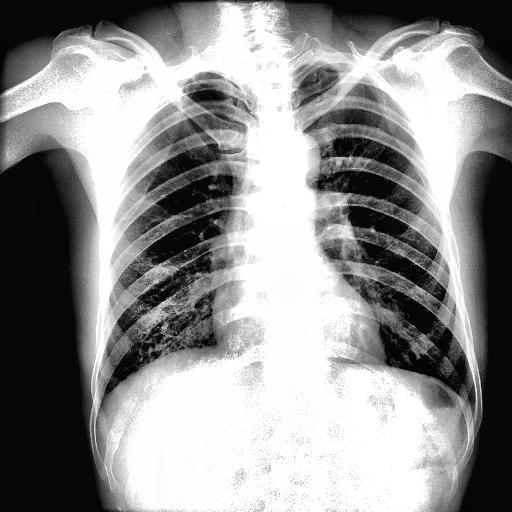11- Pleural thickening: (319, 61, 369, 76)
5- ILD: (116, 216, 210, 368), (132, 293, 208, 373)
6- Infiltration: (149, 298, 211, 354)
7- Lung Opacity: (149, 298, 211, 354)
